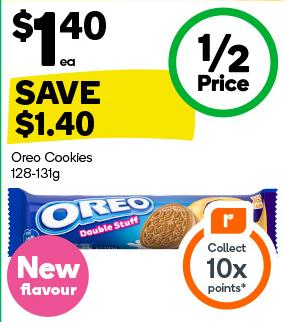description_block: (7, 146, 103, 182)
price_main: (5, 2, 116, 69)
product_image_block: (7, 186, 282, 261)
promo_text_block: (4, 72, 194, 144)
